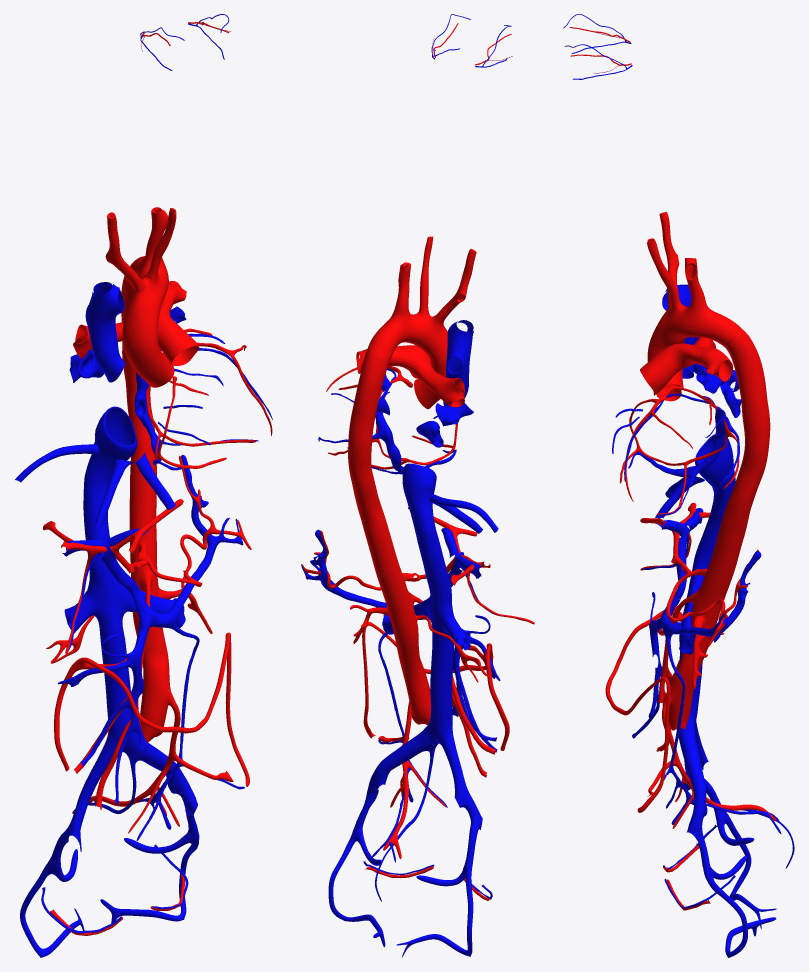
File: VH_F_Blood_Vasculature_0.6.glb
3 renders of one model, left to right at view 1: azimuth 30°, elevation 25°; view 2: azimuth 150°, elevation 25°; view 3: azimuth 270°, elevation 25°, orthographic. The views are drawn at different scales.
Visible parts, largest first — view 1: VH_F_inferior_vena_cava_b, VH_F_descending_aorta_b, VH_F_marginal_artery_of_Drummond, VH_F_superior_vena_cava, VH_F_ascending_aorta, VH_F_inferior_vena_cava_a, VH_F_splenic_vein, VH_F_aortic_arch, VH_F_left_common_iliac_vein, VH_F_pulmonary_trunk, VH_F_descending_aorta_a, VH_F_right_common_iliac_vein (+14 smaller); view 2: VH_F_descending_aorta_b, VH_F_inferior_vena_cava_b, VH_F_descending_aorta_a, VH_F_aortic_arch, VH_F_inferior_vena_cava_a, VH_F_left_common_iliac_vein, VH_F_superior_vena_cava, VH_F_marginal_artery_of_Drummond, VH_F_pulmonary_artery_R, VH_F_right_common_iliac_vein, VH_F_splenic_vein, VH_F_ascending_aorta (+6 smaller); view 3: VH_F_descending_aorta_b, VH_F_descending_aorta_a, VH_F_aortic_arch, VH_F_inferior_vena_cava_b, VH_F_left_common_iliac_vein, VH_F_marginal_artery_of_Drummond, VH_F_splenic_vein, VH_F_pulmonary_artery_L, VH_F_inferior_vena_cava_a, VH_F_pulmonary_trunk, VH_F_splenic_artery, VH_F_ascending_aorta (+11 smaller).
Part boxes in pixels (bbox=[...]): VH_F_inferior_vena_cava_b: bbox=[83, 463, 136, 752]; VH_F_descending_aorta_b: bbox=[129, 443, 170, 742]; VH_F_marginal_artery_of_Drummond: bbox=[54, 632, 249, 786]; VH_F_superior_vena_cava: bbox=[85, 282, 124, 382]; VH_F_ascending_aorta: bbox=[122, 312, 174, 387]; VH_F_inferior_vena_cava_a: bbox=[88, 406, 137, 476]; VH_F_splenic_vein: bbox=[140, 455, 243, 629]; VH_F_aortic_arch: bbox=[125, 256, 168, 315]; VH_F_left_common_iliac_vein: bbox=[125, 733, 197, 815]; VH_F_pulmonary_trunk: bbox=[157, 309, 199, 365]; VH_F_descending_aorta_a: bbox=[121, 276, 154, 444]; VH_F_right_common_iliac_vein: bbox=[64, 736, 116, 844]; VH_F_descending_aorta_b: bbox=[359, 503, 430, 724]; VH_F_inferior_vena_cava_b: bbox=[412, 516, 454, 745]; VH_F_descending_aorta_a: bbox=[348, 347, 389, 514]; VH_F_aortic_arch: bbox=[368, 312, 447, 360]; VH_F_inferior_vena_cava_a: bbox=[402, 463, 436, 517]; VH_F_left_common_iliac_vein: bbox=[364, 724, 434, 805]; VH_F_superior_vena_cava: bbox=[443, 320, 473, 406]; VH_F_marginal_artery_of_Drummond: bbox=[362, 621, 509, 750]; VH_F_pulmonary_artery_R: bbox=[413, 356, 464, 407]; VH_F_right_common_iliac_vein: bbox=[441, 729, 482, 829]; VH_F_splenic_vein: bbox=[301, 529, 386, 607]; VH_F_ascending_aorta: bbox=[414, 347, 447, 409]; VH_F_descending_aorta_b: bbox=[666, 497, 751, 730]; VH_F_descending_aorta_a: bbox=[724, 332, 770, 509]; VH_F_aortic_arch: bbox=[657, 304, 744, 346]; VH_F_inferior_vena_cava_b: bbox=[679, 479, 735, 725]; VH_F_left_common_iliac_vein: bbox=[678, 718, 707, 843]; VH_F_marginal_artery_of_Drummond: bbox=[605, 609, 682, 812]; VH_F_splenic_vein: bbox=[660, 551, 761, 642]; VH_F_pulmonary_artery_L: bbox=[676, 343, 733, 381]; VH_F_inferior_vena_cava_a: bbox=[695, 434, 735, 492]; VH_F_pulmonary_trunk: bbox=[640, 343, 694, 394]; VH_F_splenic_artery: bbox=[666, 549, 758, 647]; VH_F_ascending_aorta: bbox=[647, 323, 685, 401].
Bounding box in the file's own units: 0.1927 × 0.7991 × 0.1848.
